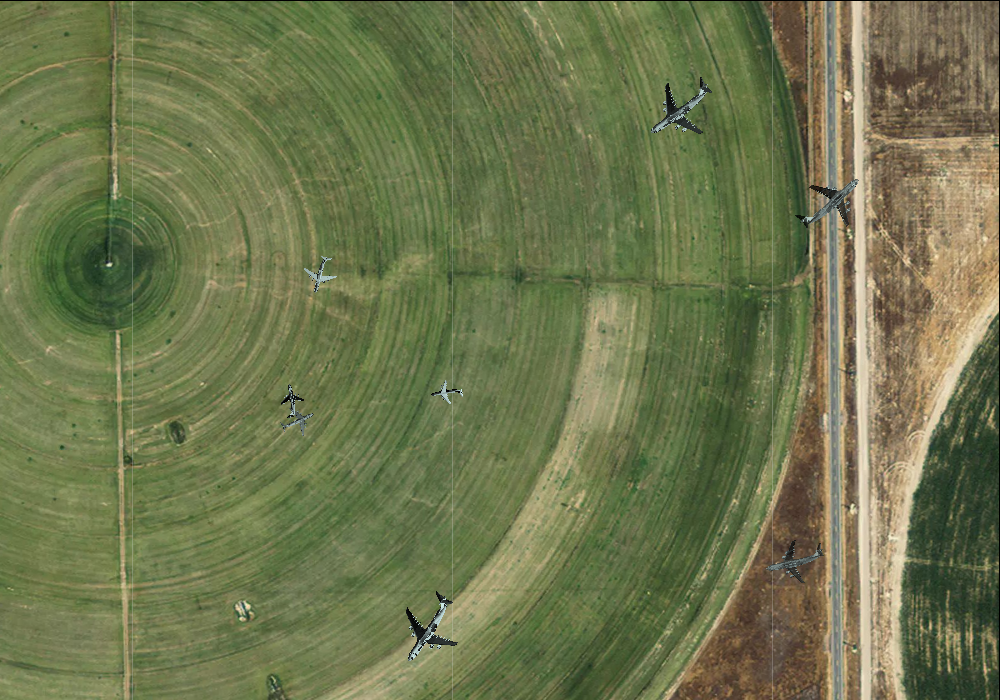plane: (376, 577, 477, 680), (629, 57, 730, 158), (780, 152, 878, 250), (760, 527, 830, 592), (274, 398, 320, 443), (298, 251, 343, 297), (272, 381, 308, 420), (428, 376, 465, 410)
